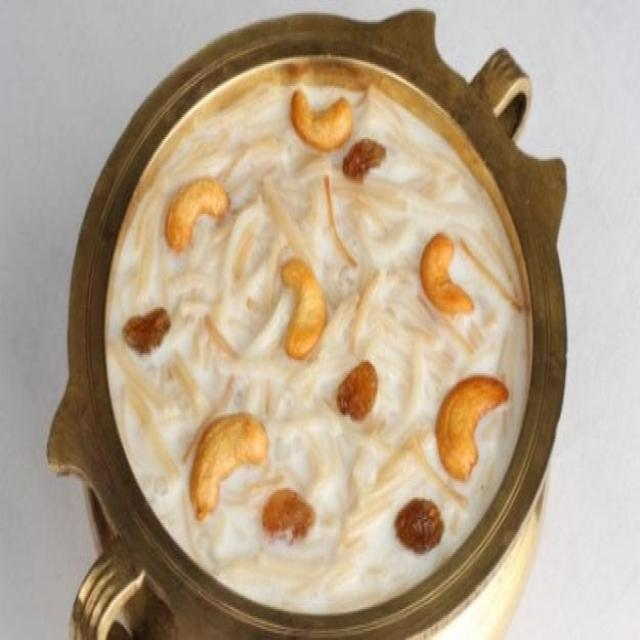shavige payasa: (94, 43, 542, 626)
